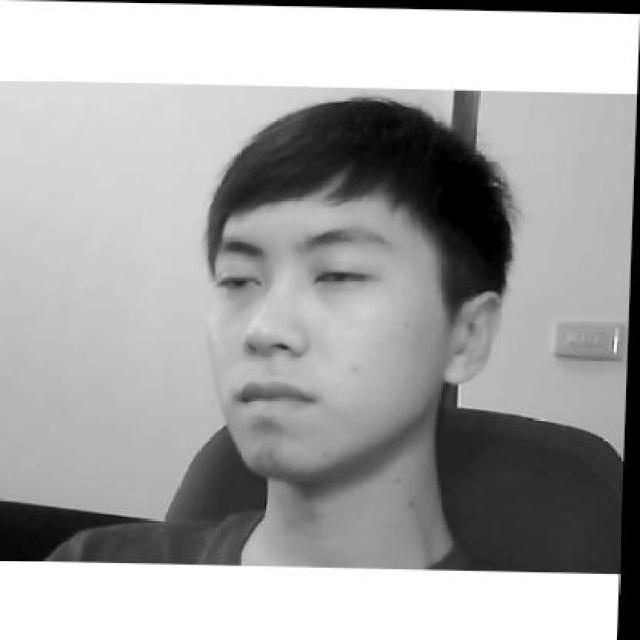inattentif: (197, 90, 509, 482)
